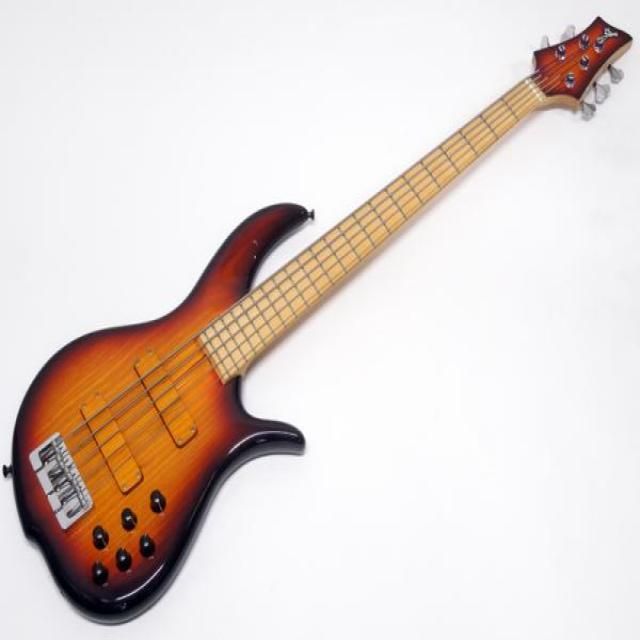bass: (4, 18, 631, 620)
